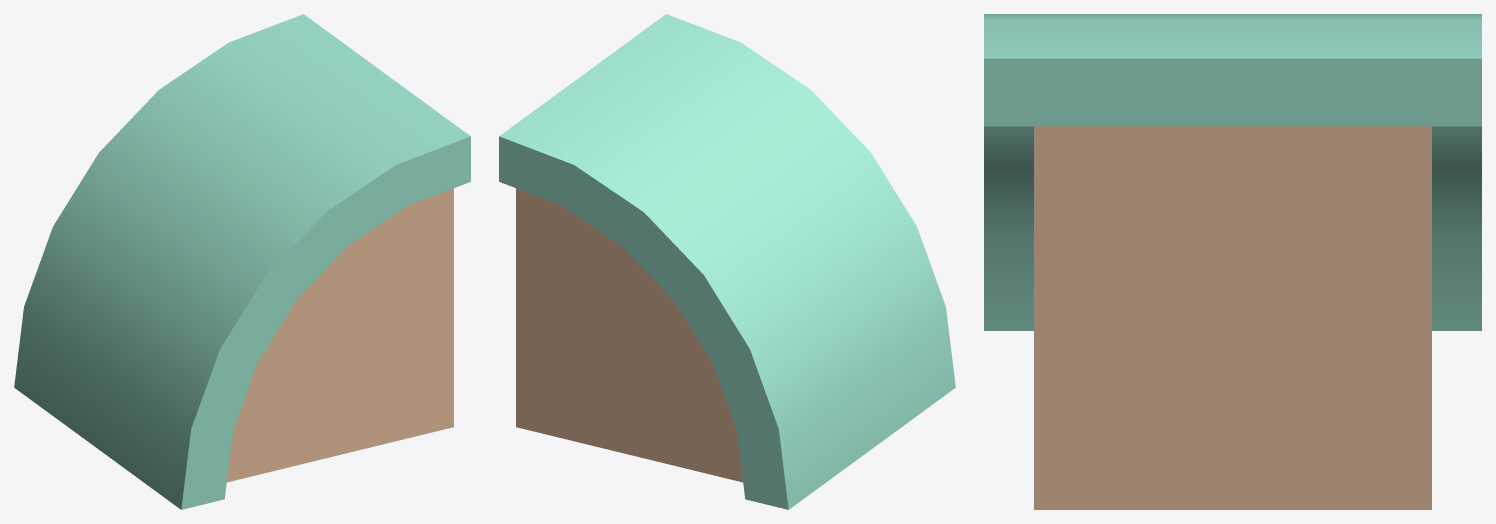
3 renders of one model, left to right at view 1: azimuth 30°, elevation 25°; view 2: azimuth 150°, elevation 25°; view 3: azimuth 270°, elevation 25°, orthographic. The views are drawn at different scales.
Visible parts, largest first — view 1: blockCurveHalf; view 2: blockCurveHalf; view 3: blockCurveHalf.
Part boxes in pixels (x1,y1,x2,y2): blockCurveHalf: [14, 14, 470, 509]; blockCurveHalf: [499, 14, 955, 509]; blockCurveHalf: [984, 14, 1481, 509].
Bounding box in the file's own units: 1 × 1 × 1.
